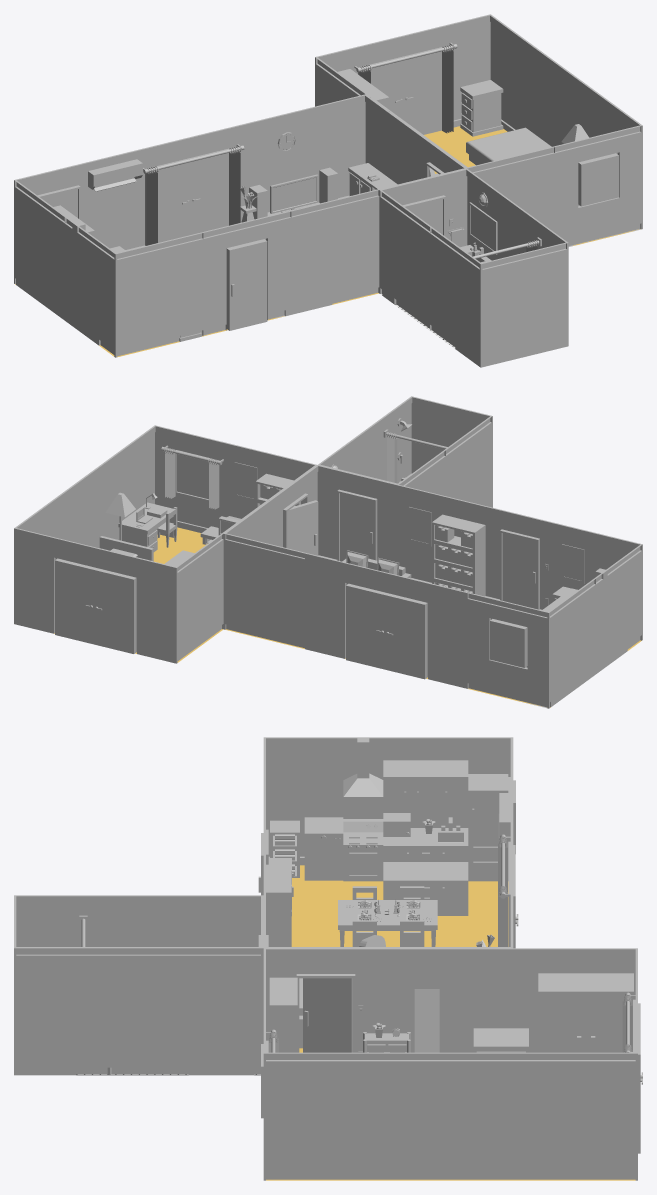
Rendered from demo_models.fbx.
3 renders of one model, top to bottom at view 1: azimuth 30°, elevation 25°; view 2: azimuth 150°, elevation 25°; view 3: azimuth 270°, elevation 25°, orthographic. The views are drawn at different scales.
Parts seen in each view (by area): view 1: Wall_Blue.002, Wall_Yellow.001, Wall_White.004, Wall_Balcony_White, Wall_Blue, Wall_Window_Yellow, Wall_White.003, Wall_White.001, Wall_Door_White, Wall_Balcony_Yellow, Wall_White.005, Shelf_01_White (+34 smaller); view 2: Wall_Balcony_Yellow, Wall_Balcony_White, Wall_White.001, Wall_Yellow.001, Wall_Window_White, Wall_White.003, Wall_Door_White.002, Wall_Yellow, Wall_Window_Yellow, Wall_Door_White, Wall_Blue.002, Wall_Blue.001 (+33 smaller); view 3: Wall_Yellow.001, Wall_Blue.001, Wall_Yellow, Wall_White.003, Wall_Blue.002, Floor_Wood_01, Wardrobe_Brown, Wall_Door_Yellow, HangingCupboard_White, Door_01_Beige, KitchenIsland_01_White, Refrigerator_White (+19 smaller).
Part boxes in pixels (x1,y1,x2,y2): Wall_Blue.002: (379,189,482,361); Wall_Yellow.001: (489,14,642,229); Wall_White.004: (114,232,203,357); Wall_Balcony_White: (102,115,278,250); Wall_Blue: (479,242,568,367); Wall_Window_Yellow: (554,125,642,246); Wall_White.003: (14,180,117,357); Wall_White.001: (277,94,365,202); Wall_Door_White: (202,211,291,335); Wall_Balcony_Yellow: (315,14,490,127); Wall_White.005: (290,189,379,303); Shelf_01_White: (284,222,332,316); Wall_Balcony_Yellow: (14,528,177,663); Wall_Balcony_White: (305,553,468,688); Wall_White.001: (223,533,305,648); Wall_Yellow.001: (14,426,155,624); Wall_Window_White: (467,592,549,708); Wall_White.003: (547,544,642,708); Wall_Door_White.002: (317,465,398,562); Wall_Yellow: (175,499,269,663); Wall_Window_Yellow: (154,425,236,532); Wall_Door_White: (479,504,561,610); Wall_Blue.002: (397,415,492,505); Wall_Blue.001: (318,396,412,483); Wall_Yellow.001: (263,1052,637,1179); Wall_Blue.001: (14,947,263,1074); Wall_Yellow: (388,948,637,1052); Wall_White.003: (266,737,510,865); Wall_Blue.002: (16,895,263,946); Floor_Wood_01: (291,865,508,1052); Wardrobe_Brown: (538,973,633,1052); Wall_Door_Yellow: (266,948,388,1052); HangingCupboard_White: (383,760,468,804); Door_01_Beige: (303,978,352,1052); KitchenIsland_01_White: (383,862,468,915); Refrigerator_White: (468,774,508,881).
Size of the model in its own units: 3000 by 562 by 2520.
